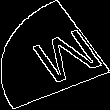M_SE: (11, 22, 99, 88)
